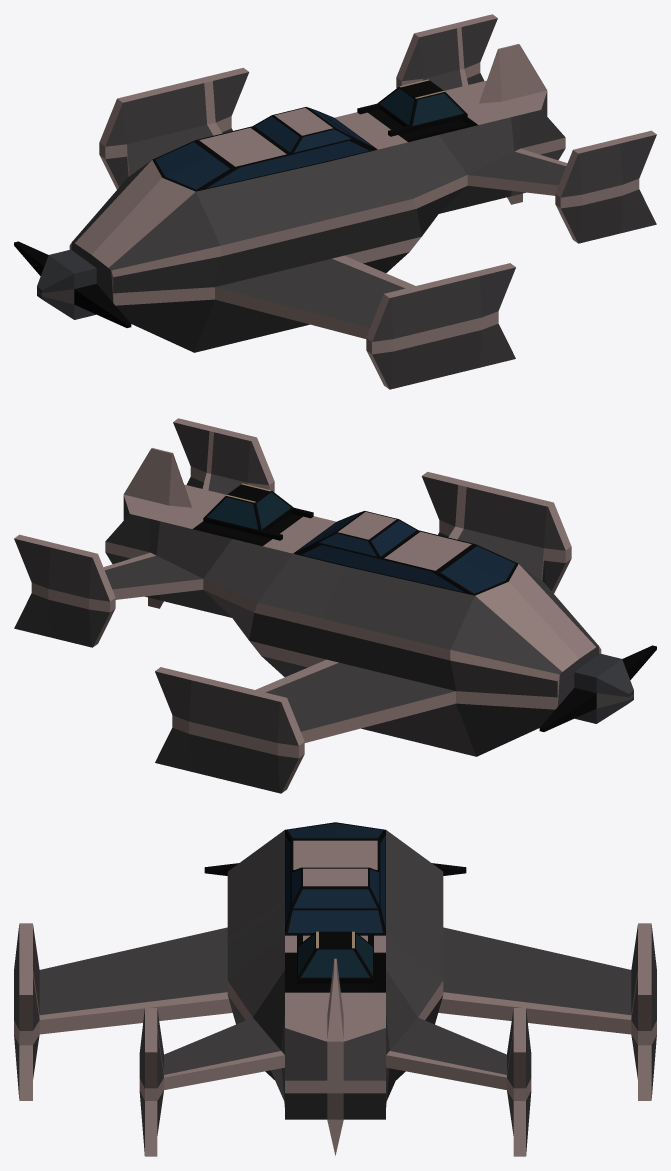
File: Dreadnaught.fbx
3 views of the same model, one above another, from view 1: azimuth 30°, elevation 25°; view 2: azimuth 150°, elevation 25°; view 3: azimuth 270°, elevation 25° (orthographic). The views are drawn at different scales.
Parts seen in each view (by area): view 1: Cube, Cube.002, Cube.001; view 2: Cube, Cube.002, Cube.001; view 3: Cube, Cube.001, Cube.002.
Part boxes in pixels (bbox=[...]): Cube: bbox=[69, 14, 656, 389]; Cube.002: bbox=[14, 241, 131, 327]; Cube.001: bbox=[357, 79, 467, 136]; Cube: bbox=[14, 418, 601, 793]; Cube.002: bbox=[539, 645, 656, 731]; Cube.001: bbox=[203, 483, 313, 540]; Cube: bbox=[14, 822, 656, 1156]; Cube.001: bbox=[297, 931, 373, 983]; Cube.002: bbox=[204, 863, 466, 875].
Size of the model in its own units: 1416 by 567 by 1270.
